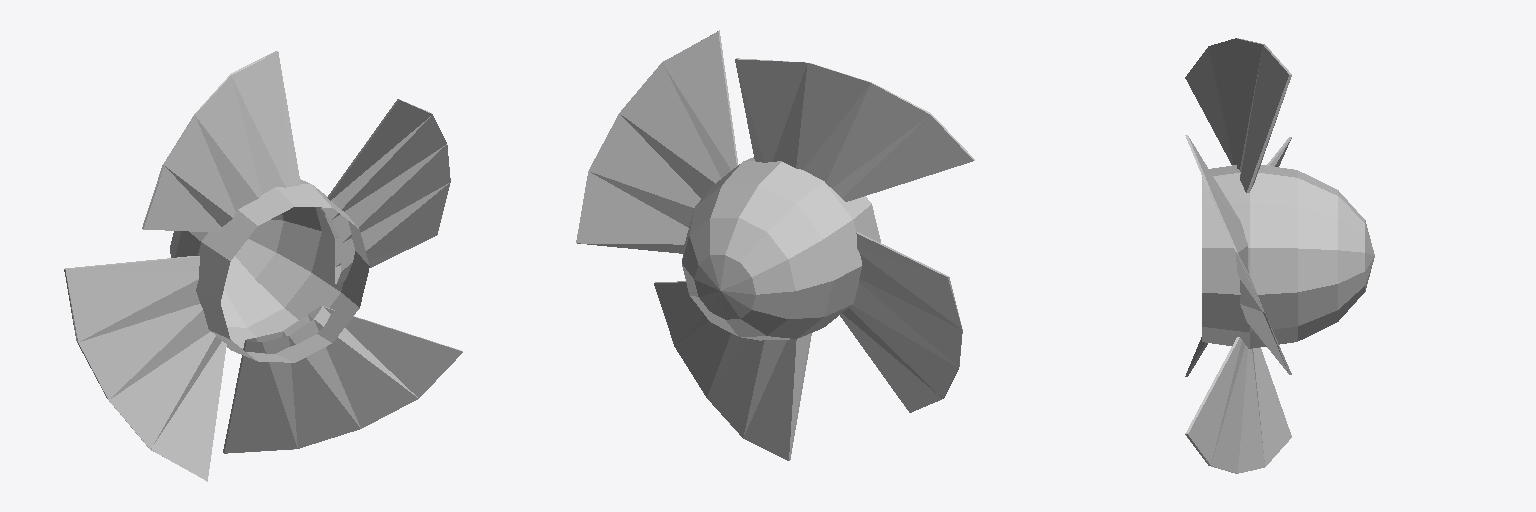
The model's file is prop_top_right.obj.
The picture shows the model from 3 angles: view 1: azimuth 30°, elevation 25°; view 2: azimuth 150°, elevation 25°; view 3: azimuth 270°, elevation 25°; orthographic projection.
Parts seen in each view (by area): view 1: rdmobj00.201, rdmobj00.214, rdmobj00.205, rdmobj00.203, rdmobj00.071; view 2: rdmobj00.214, rdmobj00.071, rdmobj00.203, rdmobj00.201, rdmobj00.205; view 3: rdmobj00.214, rdmobj00.203, rdmobj00.205, rdmobj00.071.
Part boxes in pixels (bbox=[...]): rdmobj00.201: bbox=[64, 256, 228, 481]; rdmobj00.214: bbox=[170, 179, 369, 362]; rdmobj00.205: bbox=[223, 306, 462, 453]; rdmobj00.203: bbox=[142, 51, 300, 232]; rdmobj00.071: bbox=[320, 99, 450, 284]; rdmobj00.214: bbox=[682, 157, 880, 340]; rdmobj00.071: bbox=[576, 30, 737, 253]; rdmobj00.203: bbox=[735, 58, 974, 201]; rdmobj00.201: bbox=[840, 232, 962, 412]; rdmobj00.205: bbox=[654, 281, 811, 460]; rdmobj00.214: bbox=[1202, 165, 1374, 348]; rdmobj00.203: bbox=[1185, 38, 1291, 192]; rdmobj00.205: bbox=[1185, 337, 1291, 473]; rdmobj00.071: bbox=[1185, 135, 1291, 374].
Size of the model in its own units: 94.73 by 94.73 by 41.66.